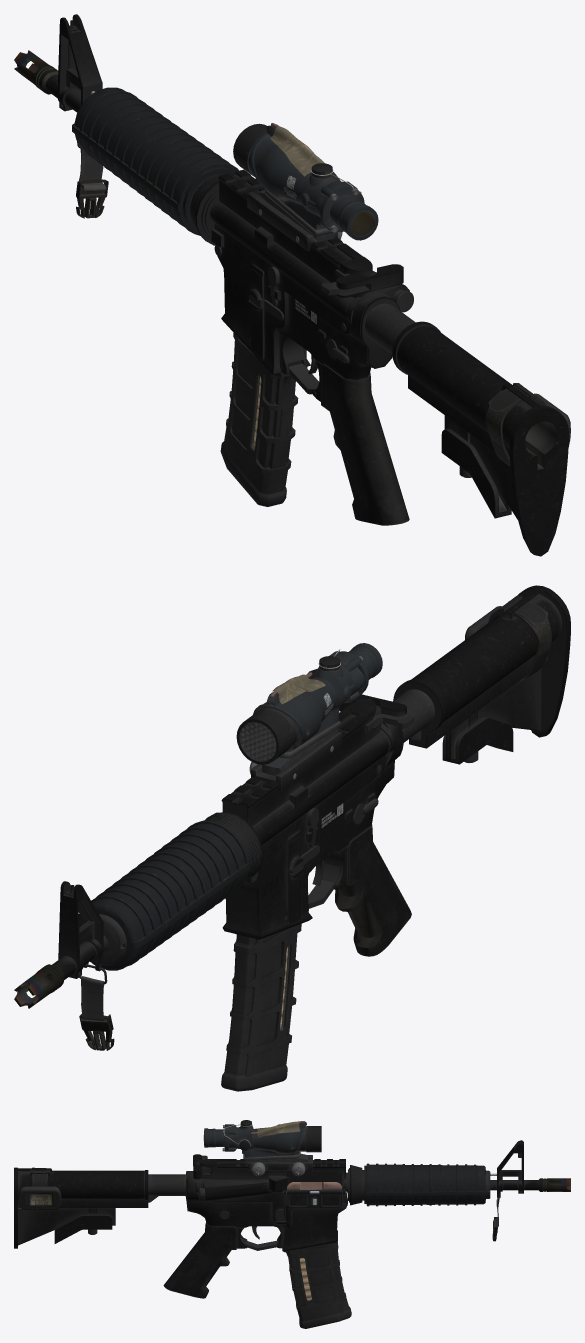
File: ar-15_style_rifle.glb
3 views of the same model, one above another, from view 1: azimuth 30°, elevation 25°; view 2: azimuth 150°, elevation 25°; view 3: azimuth 270°, elevation 25° (orthographic). The views are drawn at different scales.
Parts seen in each view (by area): view 1: ar15, acog, magazine, gps, ar15.005, belt; view 2: ar15, acog, magazine, belt, gps, ar15.005; view 3: ar15, acog, magazine, gps, dust cover, bolt carrier, ar15.005.
Part boxes in pixels (<box>): ar15: <box>14,14,568,556</box>; acog: <box>233,123,378,251</box>; magazine: <box>220,332,298,506</box>; gps: <box>485,383,570,466</box>; ar15.005: <box>321,264,403,297</box>; belt: <box>76,141,108,218</box>; ar15: <box>14,585,570,1008</box>; acog: <box>236,643,382,790</box>; magazine: <box>221,923,301,1091</box>; belt: <box>79,964,114,1050</box>; gps: <box>465,595,552,680</box>; ar15.005: <box>339,694,414,730</box>; ar15: <box>14,1140,570,1298</box>; acog: <box>203,1120,321,1176</box>; magazine: <box>283,1242,351,1328</box>; gps: <box>18,1167,61,1209</box>; dust cover: <box>287,1191,342,1207</box>; bolt carrier: <box>287,1182,342,1189</box>; ar15.005: <box>193,1154,211,1179</box>.
Bounding box in the file's own units: 0.6808 × 2.76 × 6.79.
Materials: 5 (5 with a texture image).
